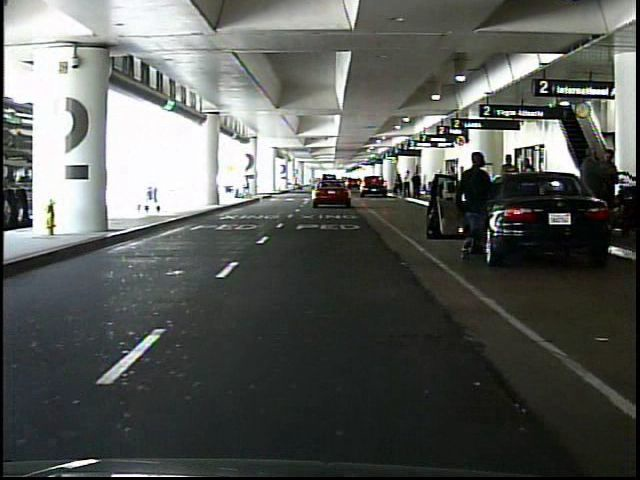person: (460, 151, 492, 268), (584, 146, 620, 239), (576, 143, 606, 229), (499, 152, 521, 216), (520, 157, 538, 216), (403, 169, 413, 199), (412, 171, 422, 200), (396, 174, 404, 197), (291, 176, 301, 193)
